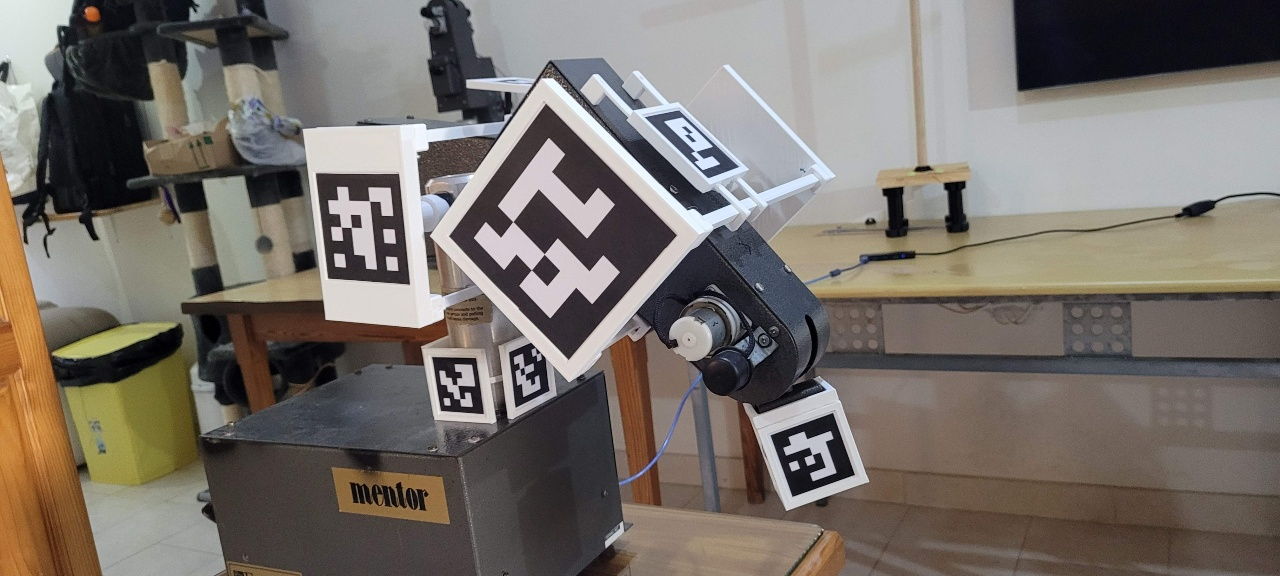Robot: (248, 8, 819, 576)
